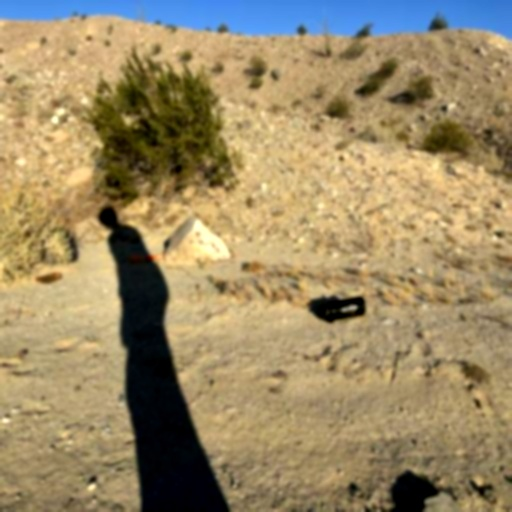bottle: (318, 296, 368, 322)
mallet: (124, 245, 164, 271)
